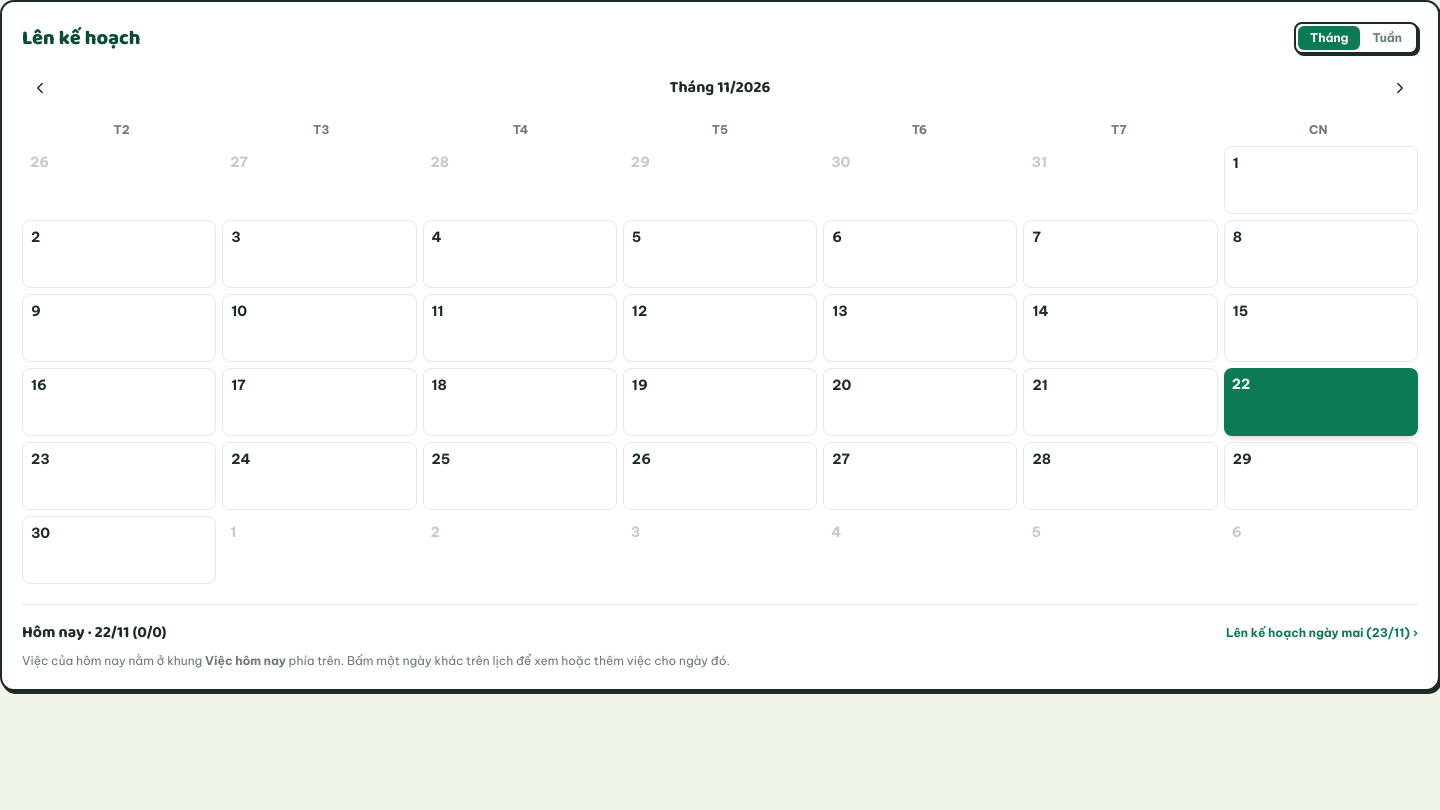
it: PlanningCalendarBlock › navigates next and previous months
Click the button named "Tháng sau". click: (1400, 88)
box: x1=1382 y1=70 x2=1418 y2=106
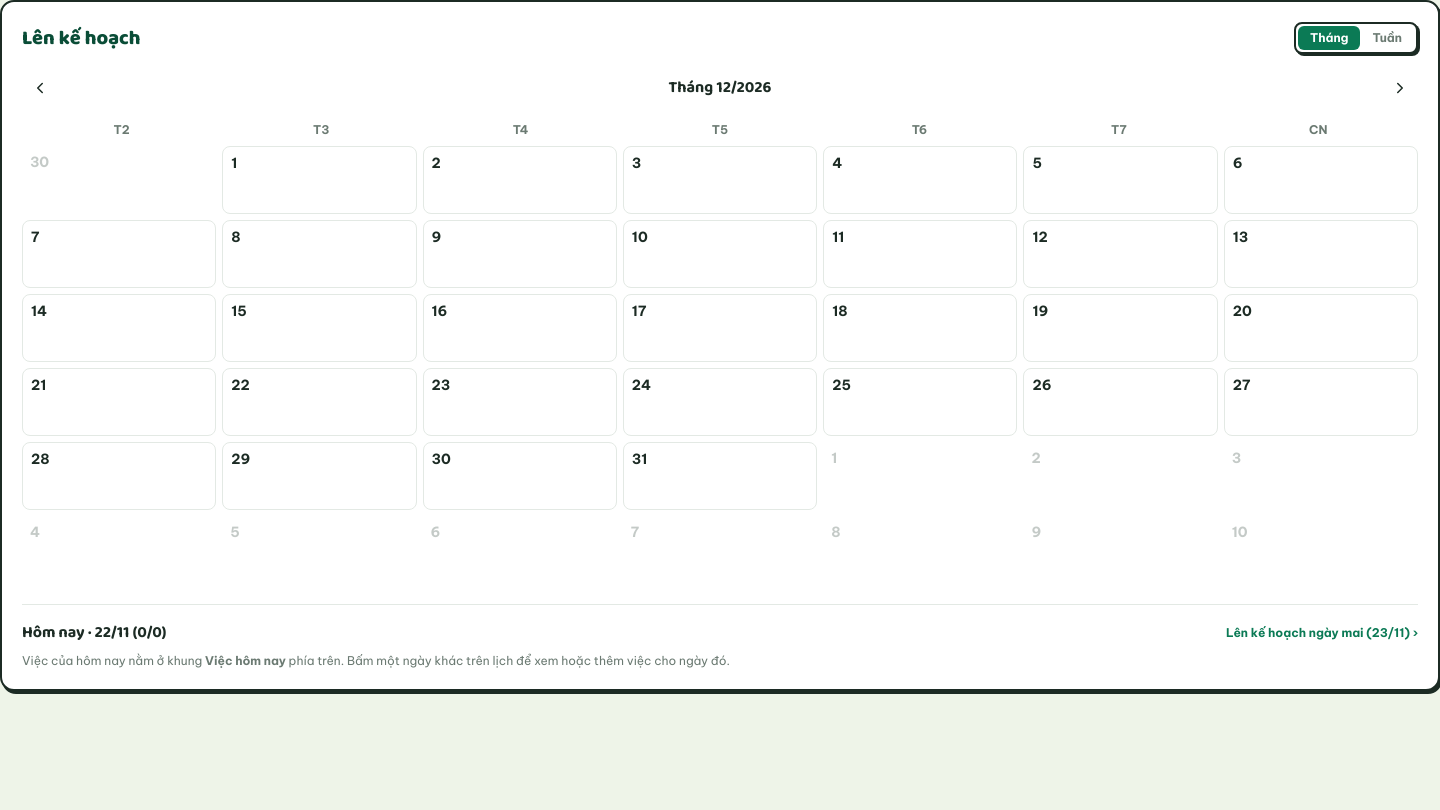
Expected: the text "Tháng 12/2026" is shown, x1=669 y1=76 x2=771 y2=100
Click the button named "Tháng trước". click: (40, 88)
box: x1=22 y1=70 x2=58 y2=106
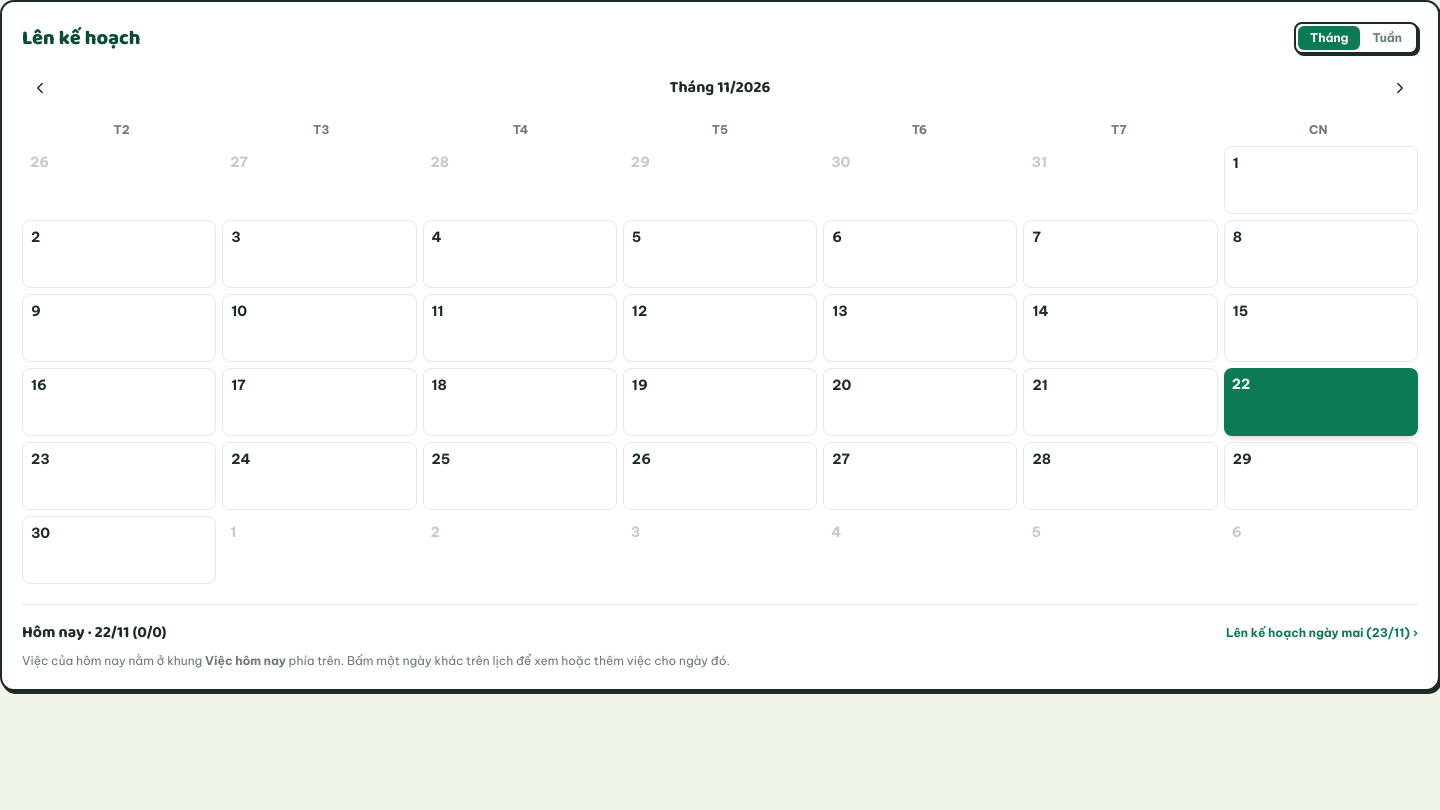
Expected: the text "Tháng 11/2026" is shown, x1=670 y1=76 x2=770 y2=100
